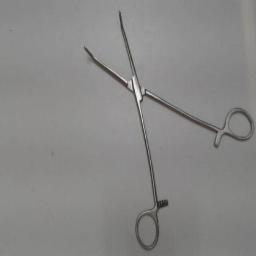Lahey Forceps: (78, 4, 254, 252)
